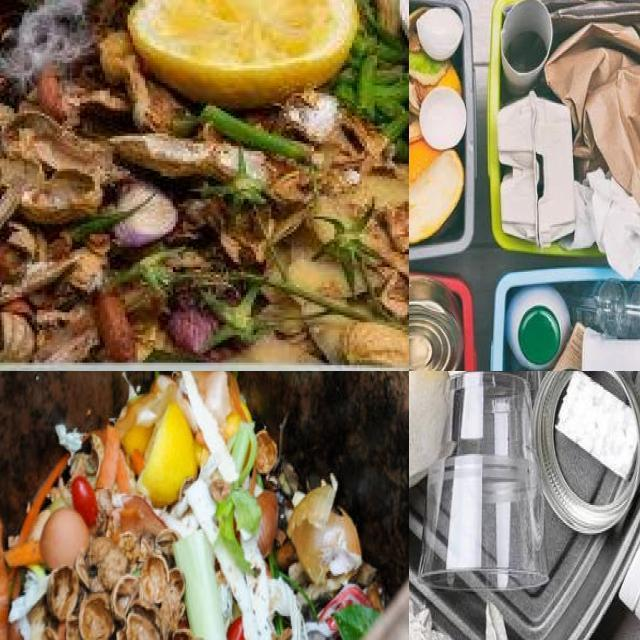Garbage: (0, 371, 385, 640), (409, 371, 640, 640), (489, 0, 640, 276), (409, 0, 476, 257)
Metal: (533, 371, 640, 534)
Plastic: (419, 371, 548, 589)
Plastic_bottle: (506, 285, 570, 370), (570, 278, 640, 339)
Plastic_wraper: (302, 585, 380, 640)
contaminated_waste: (545, 23, 640, 208), (409, 484, 486, 640), (498, 93, 576, 246), (506, 285, 570, 370)
